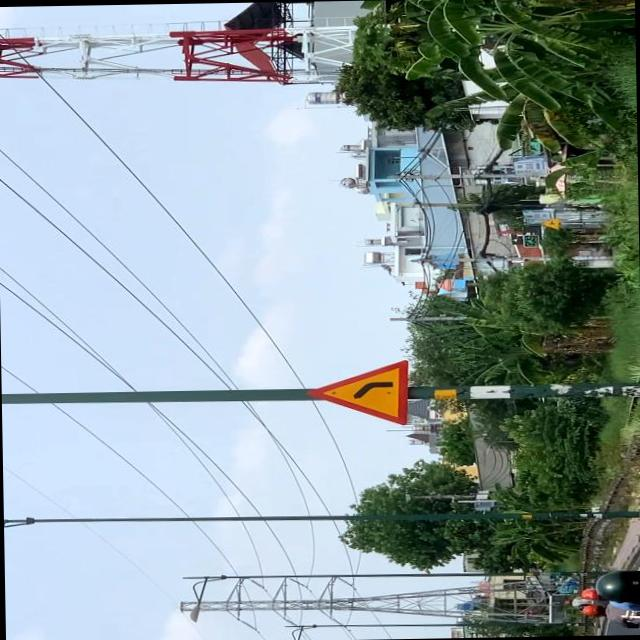W-201a: (307, 358, 412, 424)
